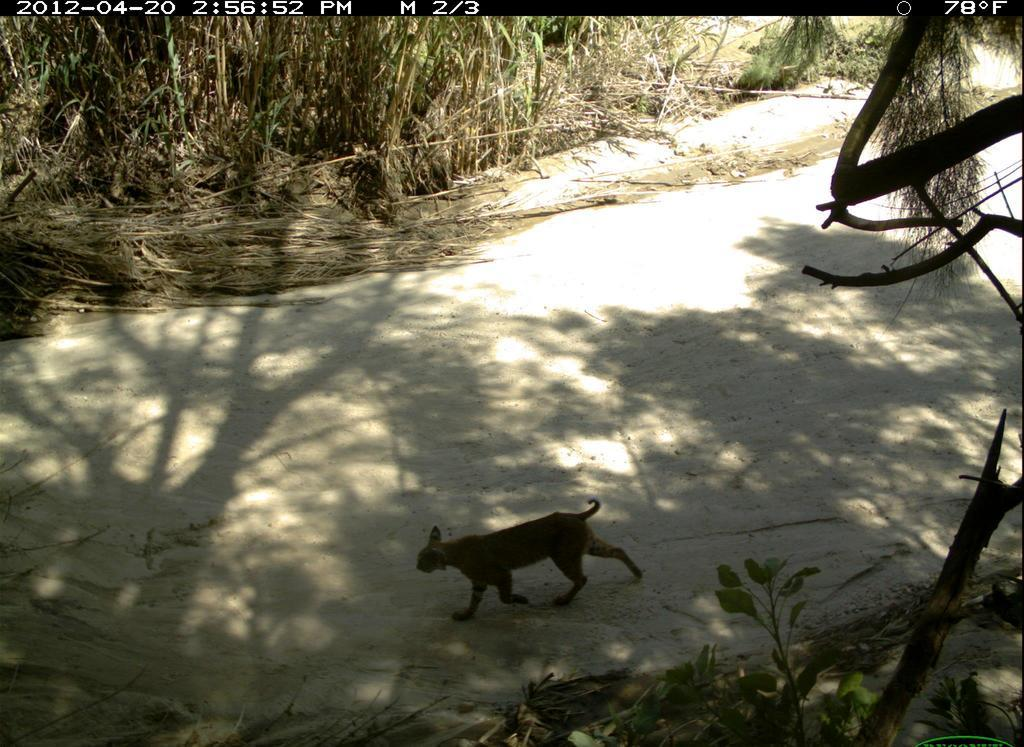bobcat: (410, 488, 652, 637)
